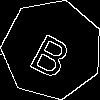B: (27, 24, 79, 81)
